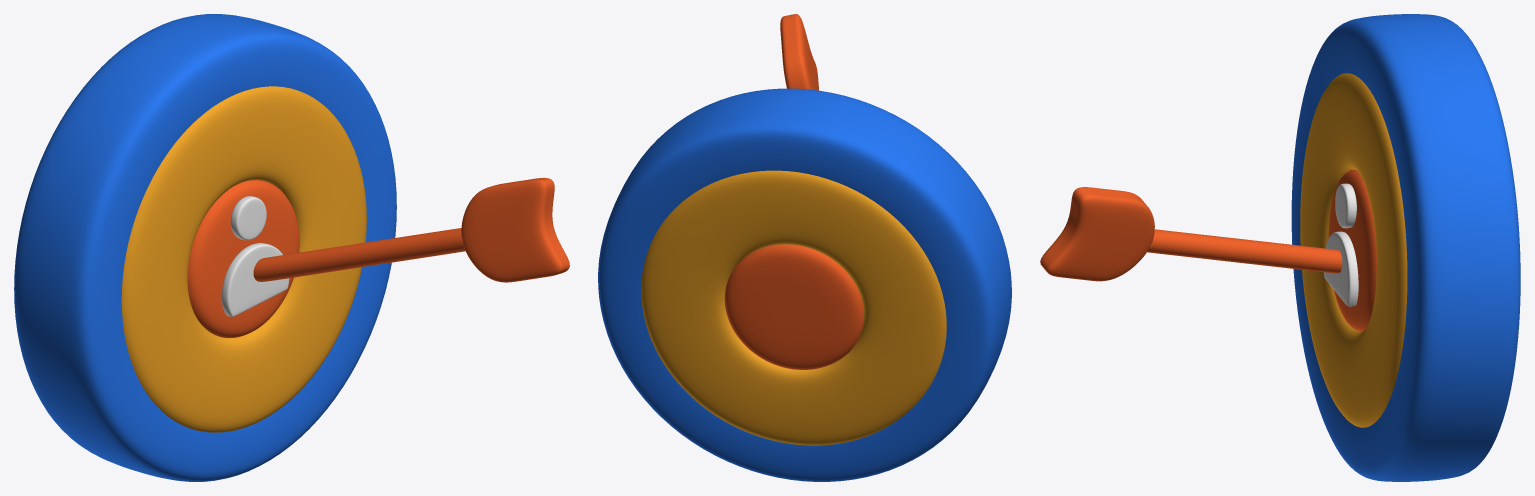
Rendered from target-market-3d-animated-icon-429981210877.glb.
3 renders of one model, left to right at view 1: azimuth 30°, elevation 25°; view 2: azimuth 150°, elevation 25°; view 3: azimuth 270°, elevation 25°, orthographic. The views are drawn at different scales.
Visible parts, largest first — view 1: target, bow, people icon; view 2: target, bow; view 3: target, bow, people icon.
Boxes of the visible parts, x1,y1,x2,y2 form: target: [14, 14, 396, 481]; bow: [253, 177, 569, 282]; people icon: [221, 196, 289, 316]; target: [598, 88, 1011, 481]; bow: [780, 14, 818, 90]; target: [1291, 14, 1520, 481]; bow: [1040, 187, 1342, 281]; people icon: [1324, 183, 1358, 306].
Bounding box in the file's own units: 1.87 × 1.88 × 1.93.
